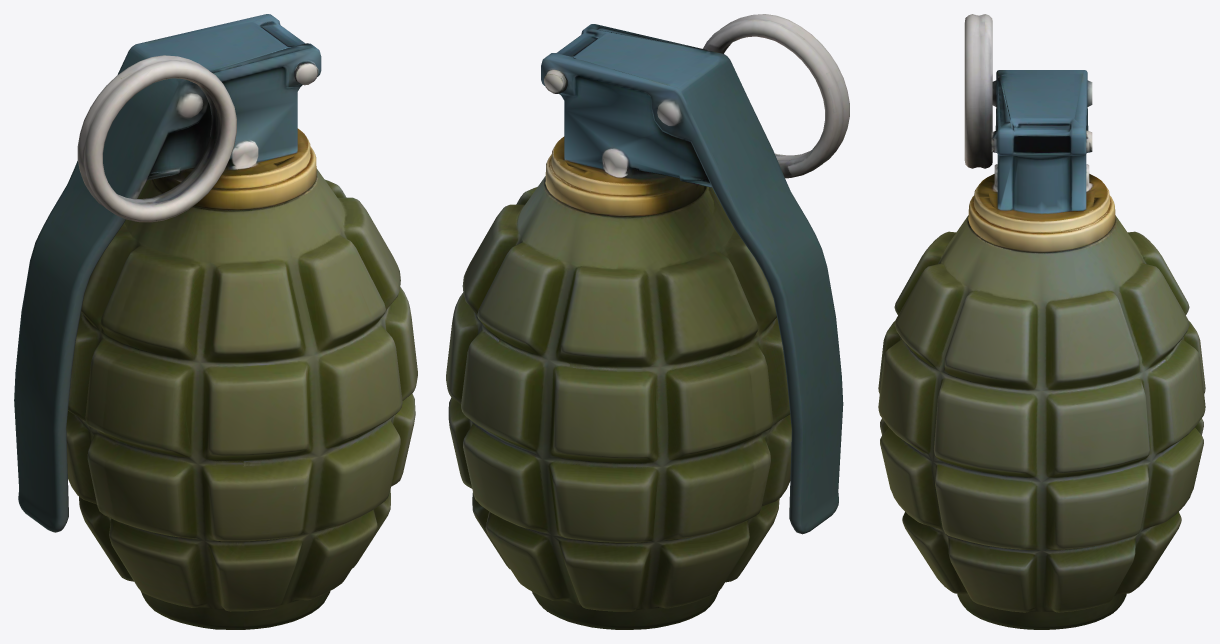
File: grenade_d45ac7d5_v3.glb
The picture shows the model from 3 angles, left to right: view 1: azimuth 30°, elevation 25°; view 2: azimuth 150°, elevation 25°; view 3: azimuth 270°, elevation 25°; orthographic projection. The views are drawn at different scales.
Visible parts, largest first — view 1: texture_pbr_20250901; view 2: texture_pbr_20250901; view 3: texture_pbr_20250901.
Boxes of the visible parts, <box> form: texture_pbr_20250901: <box>14,14,417,629</box>; texture_pbr_20250901: <box>446,14,849,629</box>; texture_pbr_20250901: <box>878,14,1205,629</box>.
Size of the model in its own units: 1.22 by 1.9 by 1.07.
1 material, 1 textured.
